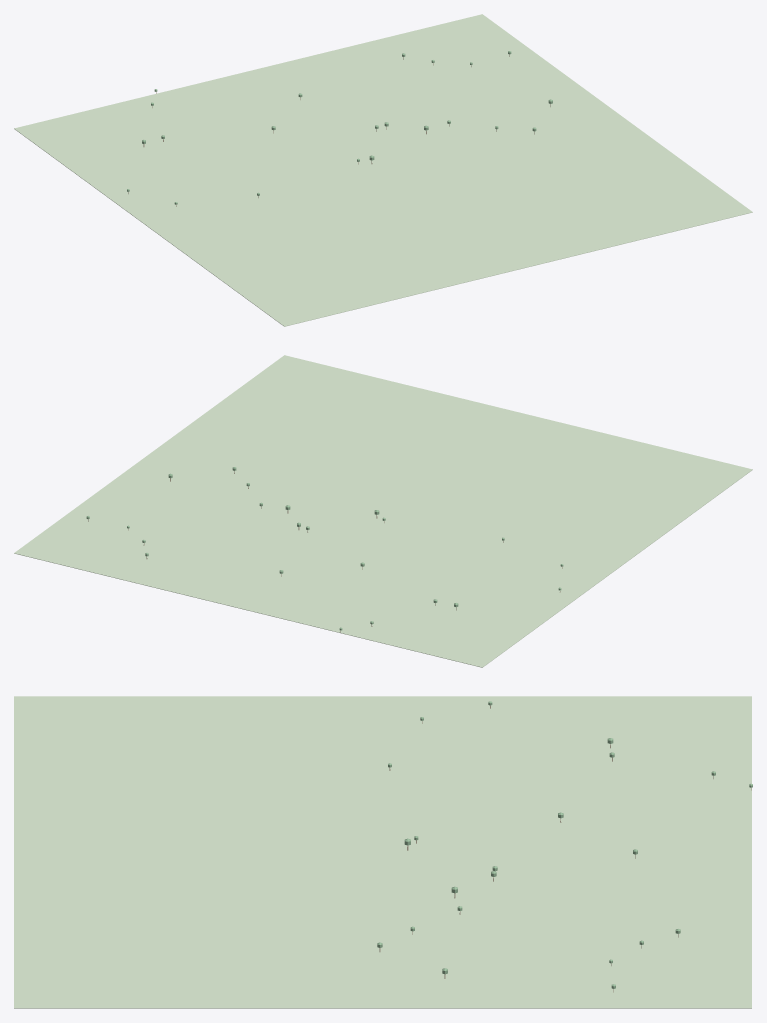
The model's file is chunk_1_7_low.glb.
The picture shows the model from 3 angles, top to bottom: view 1: azimuth 30°, elevation 25°; view 2: azimuth 150°, elevation 25°; view 3: azimuth 270°, elevation 25°; orthographic projection. The views are drawn at different scales.
Parts seen in each view (by area): view 1: city_grass; view 2: city_grass; view 3: city_grass, city_foliage_dark.
Part boxes in pixels (x1=…): city_grass: x1=14, y1=14, x2=752, y2=326; city_grass: x1=14, y1=355, x2=752, y2=667; city_grass: x1=14, y1=696, x2=751, y2=1008; city_foliage_dark: x1=377, y1=701, x2=752, y2=988.
Bounding box in the file's own units: 512 × 9.57 × 513.
